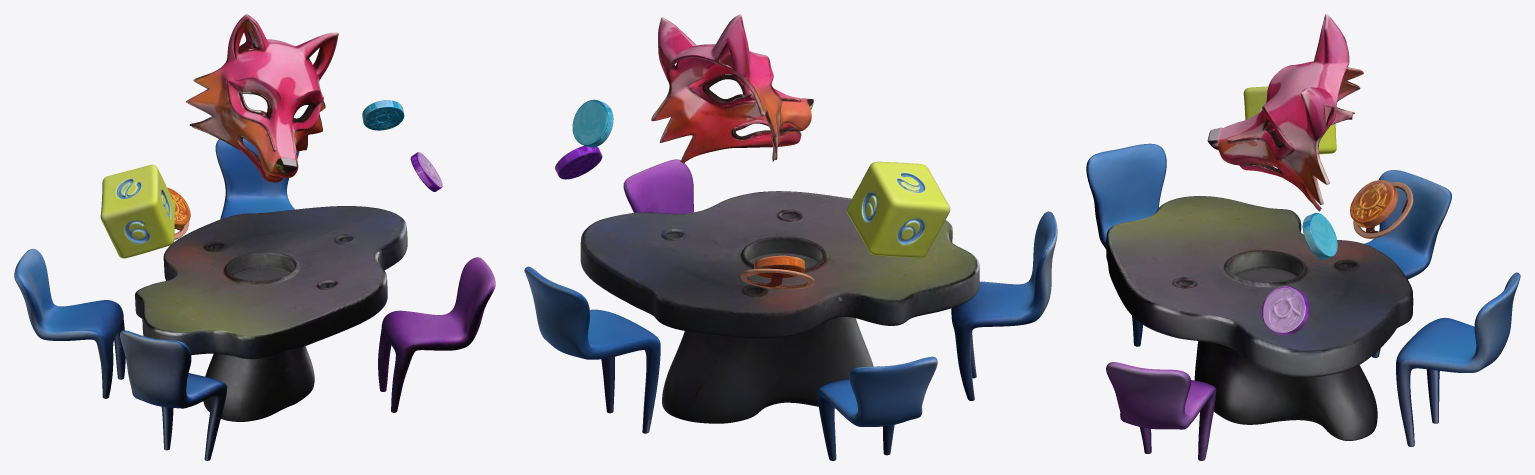
File: home-werewolf.glb
The picture shows the model from 3 angles, left to right: view 1: azimuth 30°, elevation 25°; view 2: azimuth 150°, elevation 25°; view 3: azimuth 270°, elevation 25°; orthographic projection. The views are drawn at different scales.
Parts seen in each view (by area): view 1: tripo_part_0, tripo_part_2, tripo_part_7, tripo_part_5, tripo_part_6, tripo_part_3, tripo_part_1, tripo_part_9, tripo_part_10, tripo_part_8; view 2: tripo_part_0, tripo_part_2, tripo_part_1, tripo_part_3, tripo_part_6, tripo_part_5, tripo_part_7, tripo_part_8, tripo_part_9, tripo_part_10, tripo_part_11, tripo_part_4; view 3: tripo_part_0, tripo_part_2, tripo_part_1, tripo_part_7, tripo_part_5, tripo_part_6, tripo_part_8, tripo_part_10, tripo_part_9, tripo_part_3.
Boxes of the visible parts, box(x1,y1,x2,y2) form: tripo_part_0: box(135, 206, 407, 421); tripo_part_2: box(186, 14, 338, 182); tripo_part_7: box(378, 257, 495, 412); tripo_part_5: box(120, 330, 227, 460); tripo_part_6: box(14, 248, 125, 398); tripo_part_3: box(100, 164, 175, 258); tripo_part_1: box(215, 138, 299, 219); tripo_part_9: box(362, 100, 404, 130); tripo_part_10: box(410, 152, 442, 191); tripo_part_8: box(167, 187, 190, 239); tripo_part_0: box(580, 191, 979, 423); tripo_part_2: box(651, 14, 813, 163); tripo_part_1: box(524, 266, 660, 433); tripo_part_3: box(846, 161, 950, 257); tripo_part_6: box(817, 356, 937, 460); tripo_part_5: box(951, 211, 1057, 400); tripo_part_7: box(623, 159, 693, 213); tripo_part_8: box(741, 255, 814, 289); tripo_part_9: box(572, 99, 613, 147); tripo_part_10: box(555, 145, 602, 179); tripo_part_11: box(702, 74, 751, 103); tripo_part_4: box(731, 119, 801, 140); tripo_part_0: box(1106, 196, 1413, 440); tripo_part_2: box(1207, 14, 1363, 211); tripo_part_1: box(1396, 272, 1520, 446); tripo_part_7: box(1106, 362, 1216, 460); tripo_part_5: box(1086, 143, 1166, 346); tripo_part_6: box(1364, 170, 1451, 357); tripo_part_8: box(1350, 180, 1413, 238); tripo_part_10: box(1262, 286, 1309, 335); tripo_part_9: box(1302, 213, 1337, 259); tripo_part_3: box(1243, 86, 1336, 154).
Bounding box in the file's own units: 0.979 × 0.879 × 0.8618.
16 materials, 16 textured.
